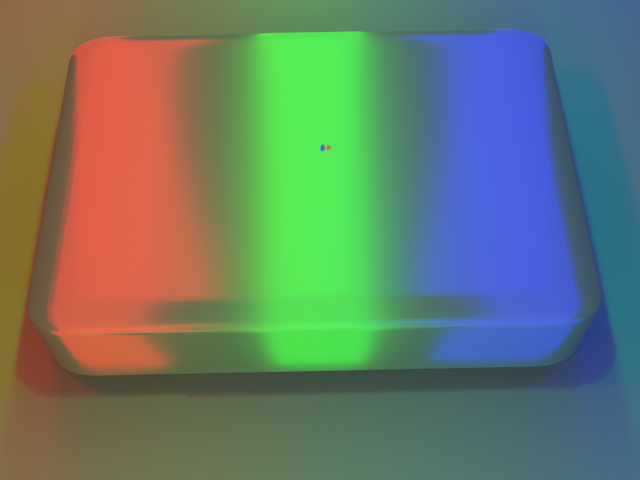dent: (307, 122, 341, 154)
